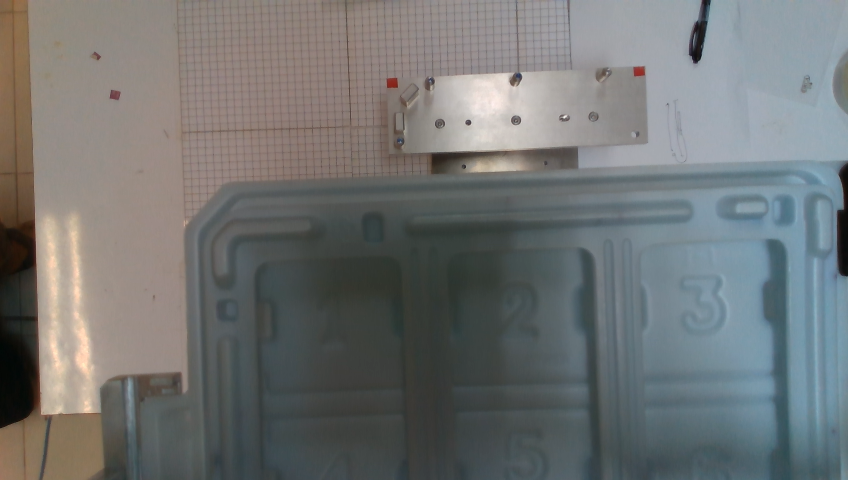red: (633, 66, 645, 77), (387, 78, 398, 88)
